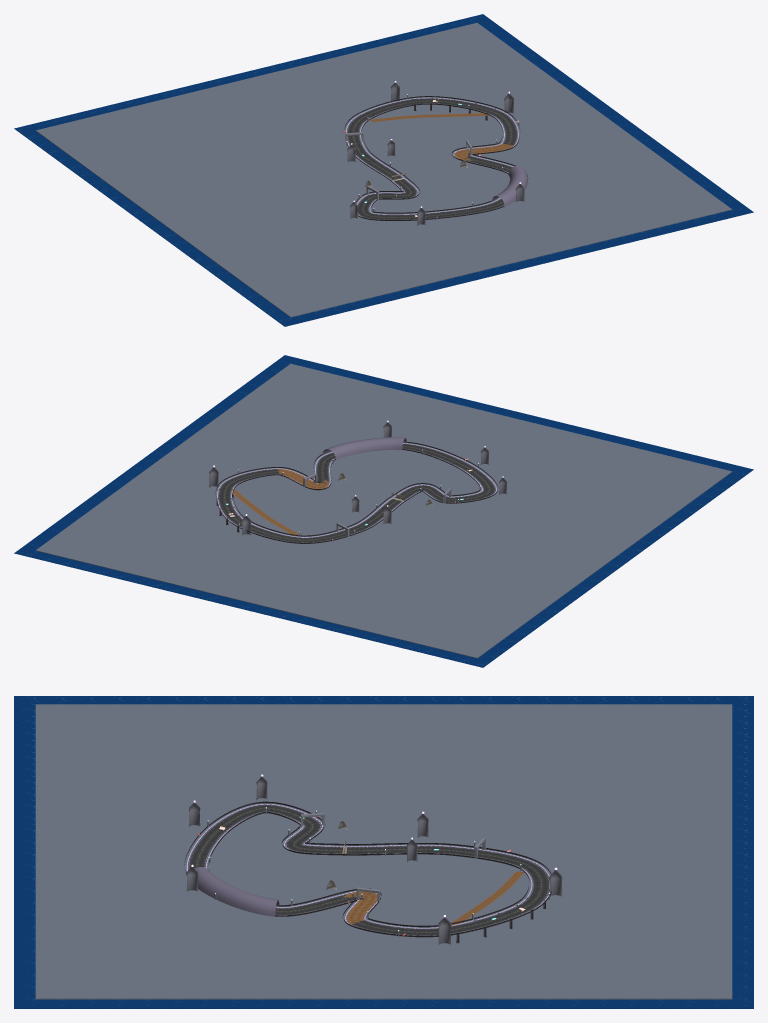
Rendered from fortaleza_tempestade.glb.
3 renders of one model, top to bottom at view 1: azimuth 30°, elevation 25°; view 2: azimuth 150°, elevation 25°; view 3: azimuth 270°, elevation 25°, orthographic. The views are drawn at different scales.
Visible parts, largest first — view 1: BiomeGroundBasin, BayWaterPlane, MainRoadMesh, LeftStoneWall, RightStoneWall, CoastalTunnelShell; view 2: BiomeGroundBasin, BayWaterPlane, MainRoadMesh, CoastalTunnelShell, LeftStoneWall, RightStoneWall; view 3: BiomeGroundBasin, BayWaterPlane, MainRoadMesh, CoastalTunnelShell, LeftStoneWall, RightStoneWall, LeftCurbMesh, SurfacePatch_fortaleza-dirt-courtyard, RightCurbMesh, Shortcut_fortaleza-atalho-muralha.
Boxes of the visible parts, x1,y1,x2,y2 form: BiomeGroundBasin: (35,22,732,317); BayWaterPlane: (14,14,753,326); MainRoadMesh: (346,98,517,219); LeftStoneWall: (344,96,528,220); RightStoneWall: (361,103,509,213); CoastalTunnelShell: (492,165,527,206); BiomeGroundBasin: (35,363,732,658); BayWaterPlane: (14,355,753,667); MainRoadMesh: (218,443,495,542); CoastalTunnelShell: (322,437,406,459); LeftStoneWall: (215,442,498,543); RightStoneWall: (233,449,480,536); BiomeGroundBasin: (35,704,732,999); BayWaterPlane: (14,696,753,1008); MainRoadMesh: (188,804,549,935); CoastalTunnelShell: (195,867,279,916); LeftStoneWall: (184,801,551,937); RightStoneWall: (208,812,529,927); LeftCurbMesh: (186,804,549,925); SurfacePatch_fortaleza-dirt-courtyard: (342,891,377,924); RightCurbMesh: (205,815,532,928); Shortcut_fortaleza-atalho-muralha: (451,871,524,925).
Bounding box in the file's own units: 680 × 40.69 × 680.
16 materials, 8 textured.
